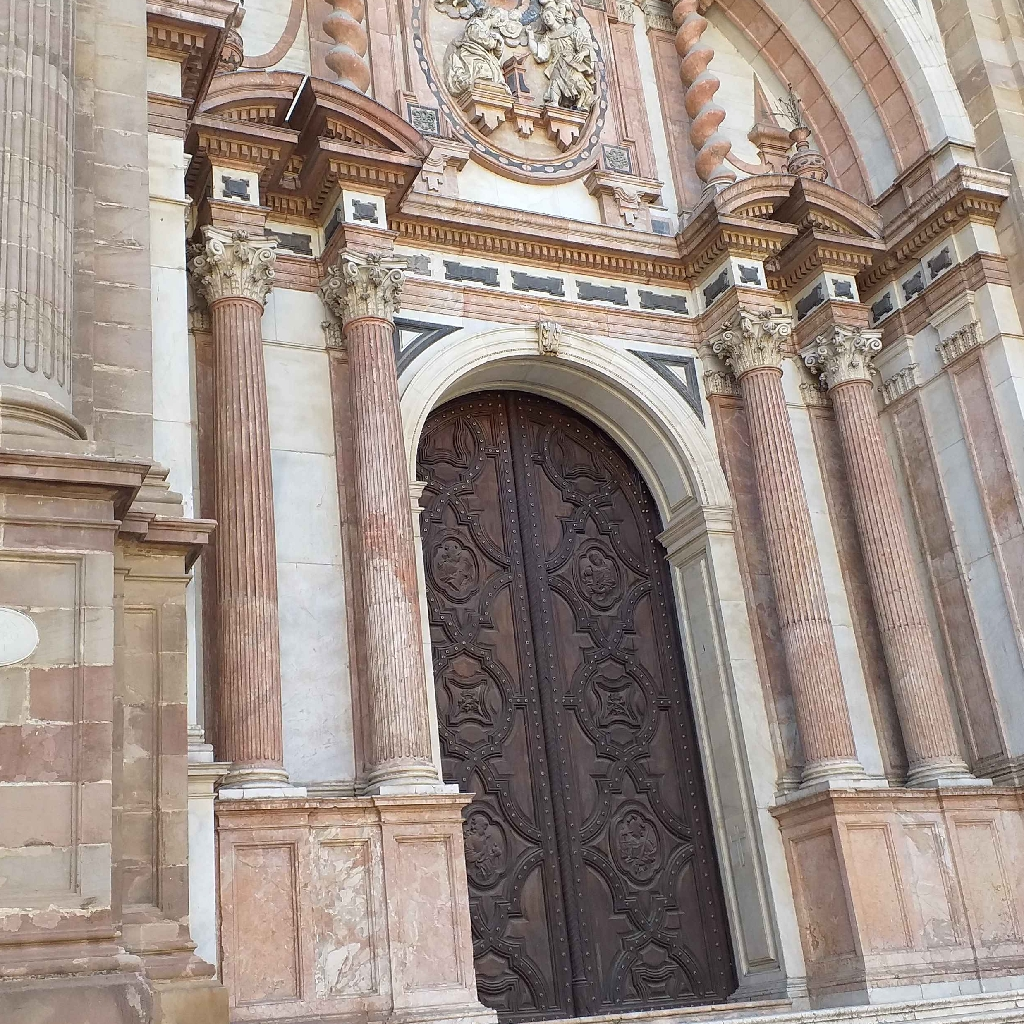arco-medio-punto: (401, 337, 694, 576)
columna-salomonica: (679, 1, 744, 177)
fronton-partido: (185, 74, 437, 181), (714, 172, 887, 263)
